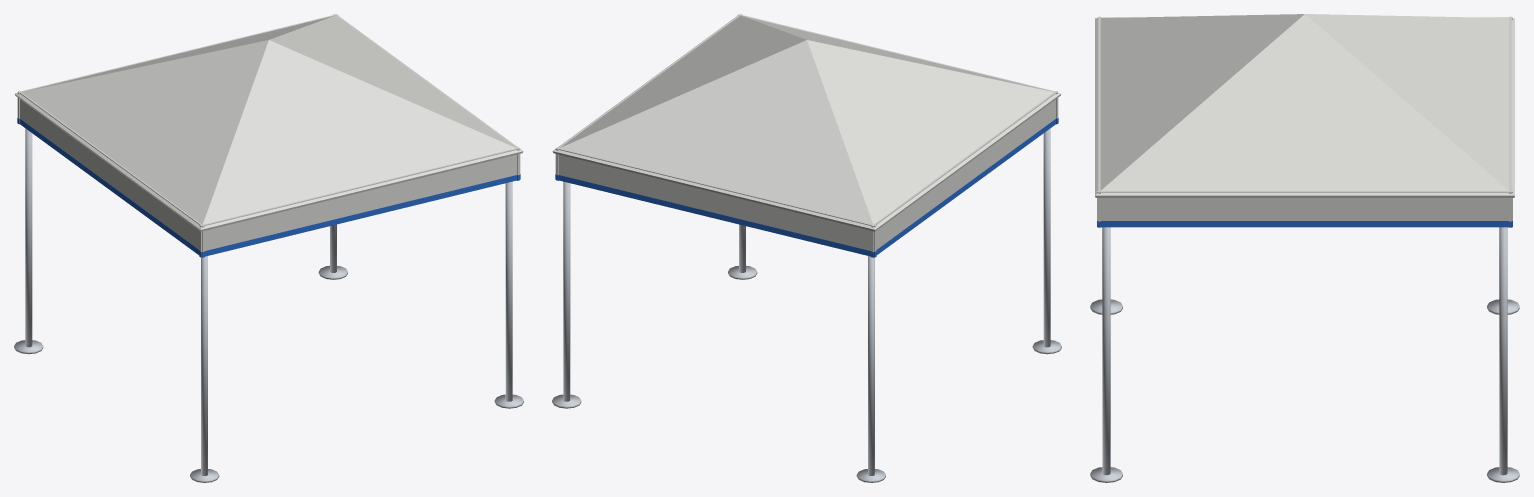
File: tent-white.glb
The picture shows the model from 3 angles, left to right: view 1: azimuth 30°, elevation 25°; view 2: azimuth 150°, elevation 25°; view 3: azimuth 270°, elevation 25°; orthographic projection. The views are drawn at different scales.
Visible parts, largest first — view 1: Cone.001, Cube.011, Cube.015, Cube.012, Cylinder.019, Cylinder.017, Cylinder.015, Cube.016, Cube.013; view 2: Cone.001, Cube.013, Cube.015, Cube.014, Cylinder.021, Cylinder.015, Cylinder.017, Cube.016, Cube.011; view 3: Cone.001, Cube.017, Cube.018, Cylinder.019, Cylinder.021, Cube.011, Cube.013.
Boxes of the visible parts, <box> form: Cone.001: <box>15,15,523,231</box>; Cube.011: <box>199,147,520,251</box>; Cube.015: <box>18,91,204,252</box>; Cube.012: <box>199,174,520,257</box>; Cylinder.019: <box>505,181,512,401</box>; Cylinder.017: <box>25,128,32,347</box>; Cylinder.015: <box>201,256,207,475</box>; Cube.016: <box>20,119,204,257</box>; Cube.013: <box>17,14,338,118</box>; Cone.001: <box>552,15,1060,231</box>; Cube.013: <box>555,147,876,251</box>; Cube.015: <box>871,91,1057,252</box>; Cube.014: <box>555,174,876,257</box>; Cylinder.021: <box>563,181,570,401</box>; Cylinder.015: <box>1043,128,1050,347</box>; Cylinder.017: <box>868,256,874,475</box>; Cube.016: <box>871,119,1055,257</box>; Cube.011: <box>737,14,1058,118</box>; Cone.001: <box>1095,14,1514,197</box>; Cube.017: <box>1097,190,1512,220</box>; Cube.018: <box>1097,221,1512,227</box>; Cylinder.019: <box>1102,227,1110,475</box>; Cylinder.021: <box>1499,227,1507,475</box>; Cube.011: <box>1098,16,1100,221</box>; Cube.013: <box>1509,16,1511,221</box>.
Size of the model in its own units: 3.14 by 3.05 by 3.14.
